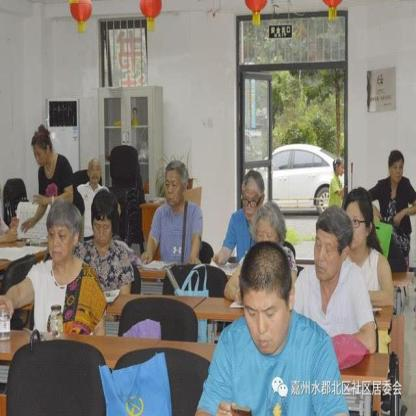head: (240, 243, 297, 355), (312, 200, 354, 286), (45, 200, 83, 263), (89, 186, 120, 251), (342, 185, 372, 251), (252, 200, 286, 256), (161, 158, 191, 209), (238, 168, 266, 219), (31, 124, 53, 166), (387, 145, 405, 187), (84, 156, 101, 183), (330, 151, 346, 179)
